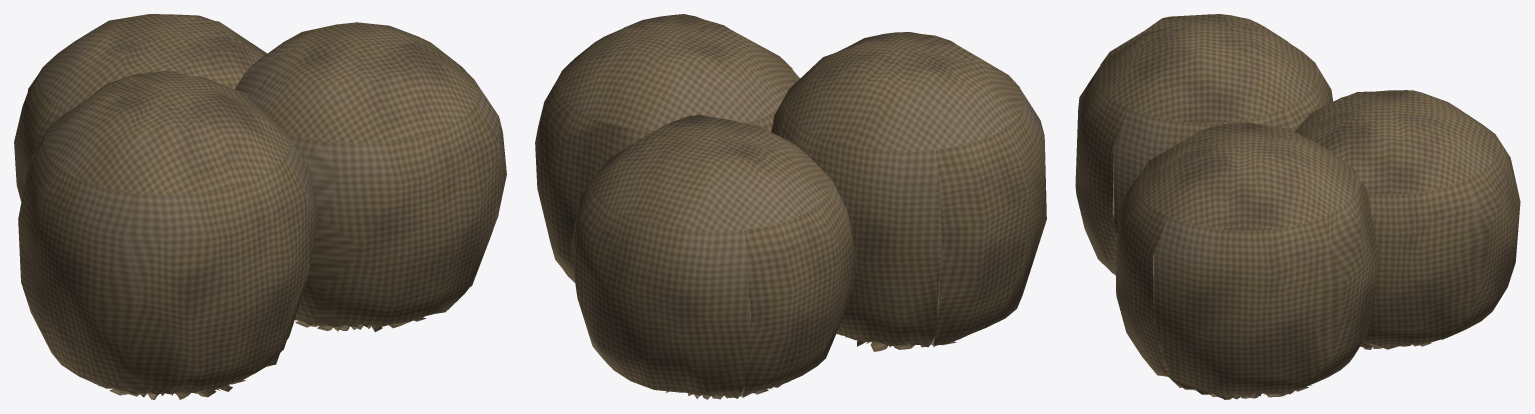
Rendered from W28_JuteSacks.glb.
The picture shows the model from 3 angles, left to right: view 1: azimuth 30°, elevation 25°; view 2: azimuth 150°, elevation 25°; view 3: azimuth 270°, elevation 25°; orthographic projection. The views are drawn at different scales.
Visible parts, largest first — view 1: W28_JuteSacks; view 2: W28_JuteSacks; view 3: W28_JuteSacks.
Boxes of the visible parts, x1,y1,x2,y2 form: W28_JuteSacks: (14,14,506,399); W28_JuteSacks: (535,14,1046,399); W28_JuteSacks: (1075,14,1520,399).
Size of the model in its own units: 0.7015 by 0.4049 by 0.6413.
1 material, 1 textured.
